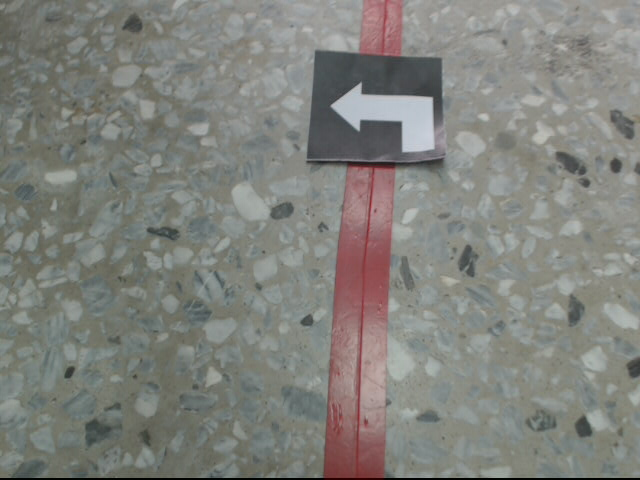left: (307, 50, 450, 166)
